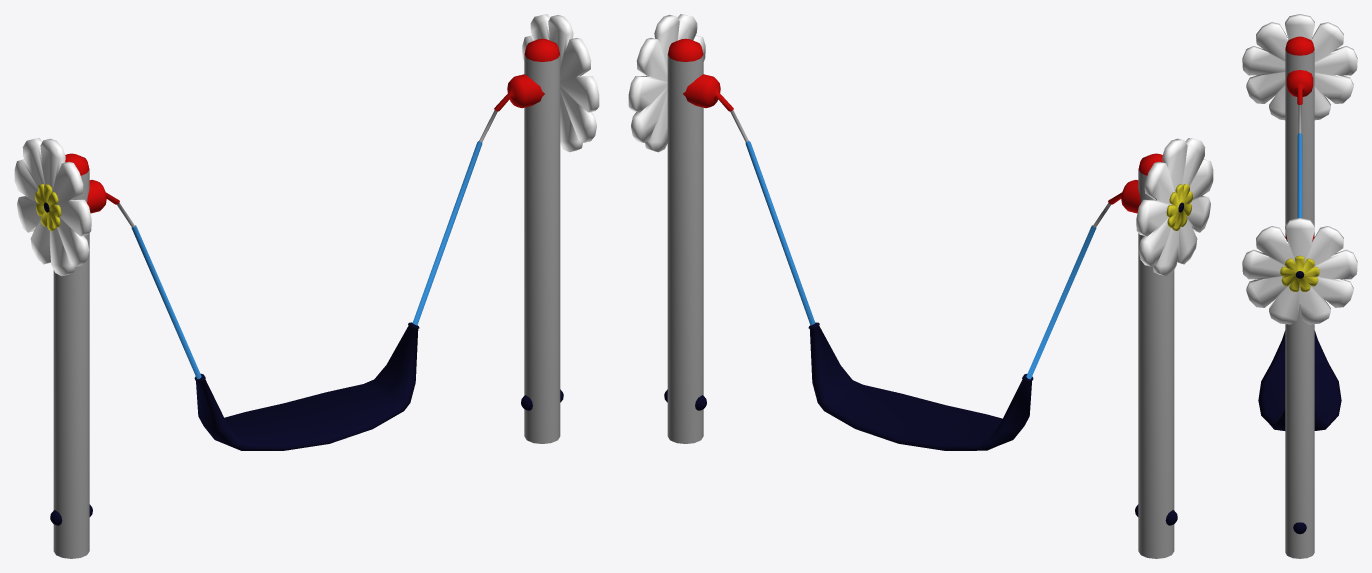
Rendered from Swing.fbx.
3 renders of one model, left to right at view 1: azimuth 30°, elevation 25°; view 2: azimuth 150°, elevation 25°; view 3: azimuth 270°, elevation 25°, orthographic. The views are drawn at different scales.
Parts seen in each view (by area): view 1: Swing; view 2: Swing; view 3: Swing.
Part boxes in pixels (x1,y1,x2,y2): Swing: (14,14,599,558); Swing: (628,14,1213,558); Swing: (1242,14,1357,558).
Bounding box in the file's own units: 96.15 × 73.07 × 22.38.
